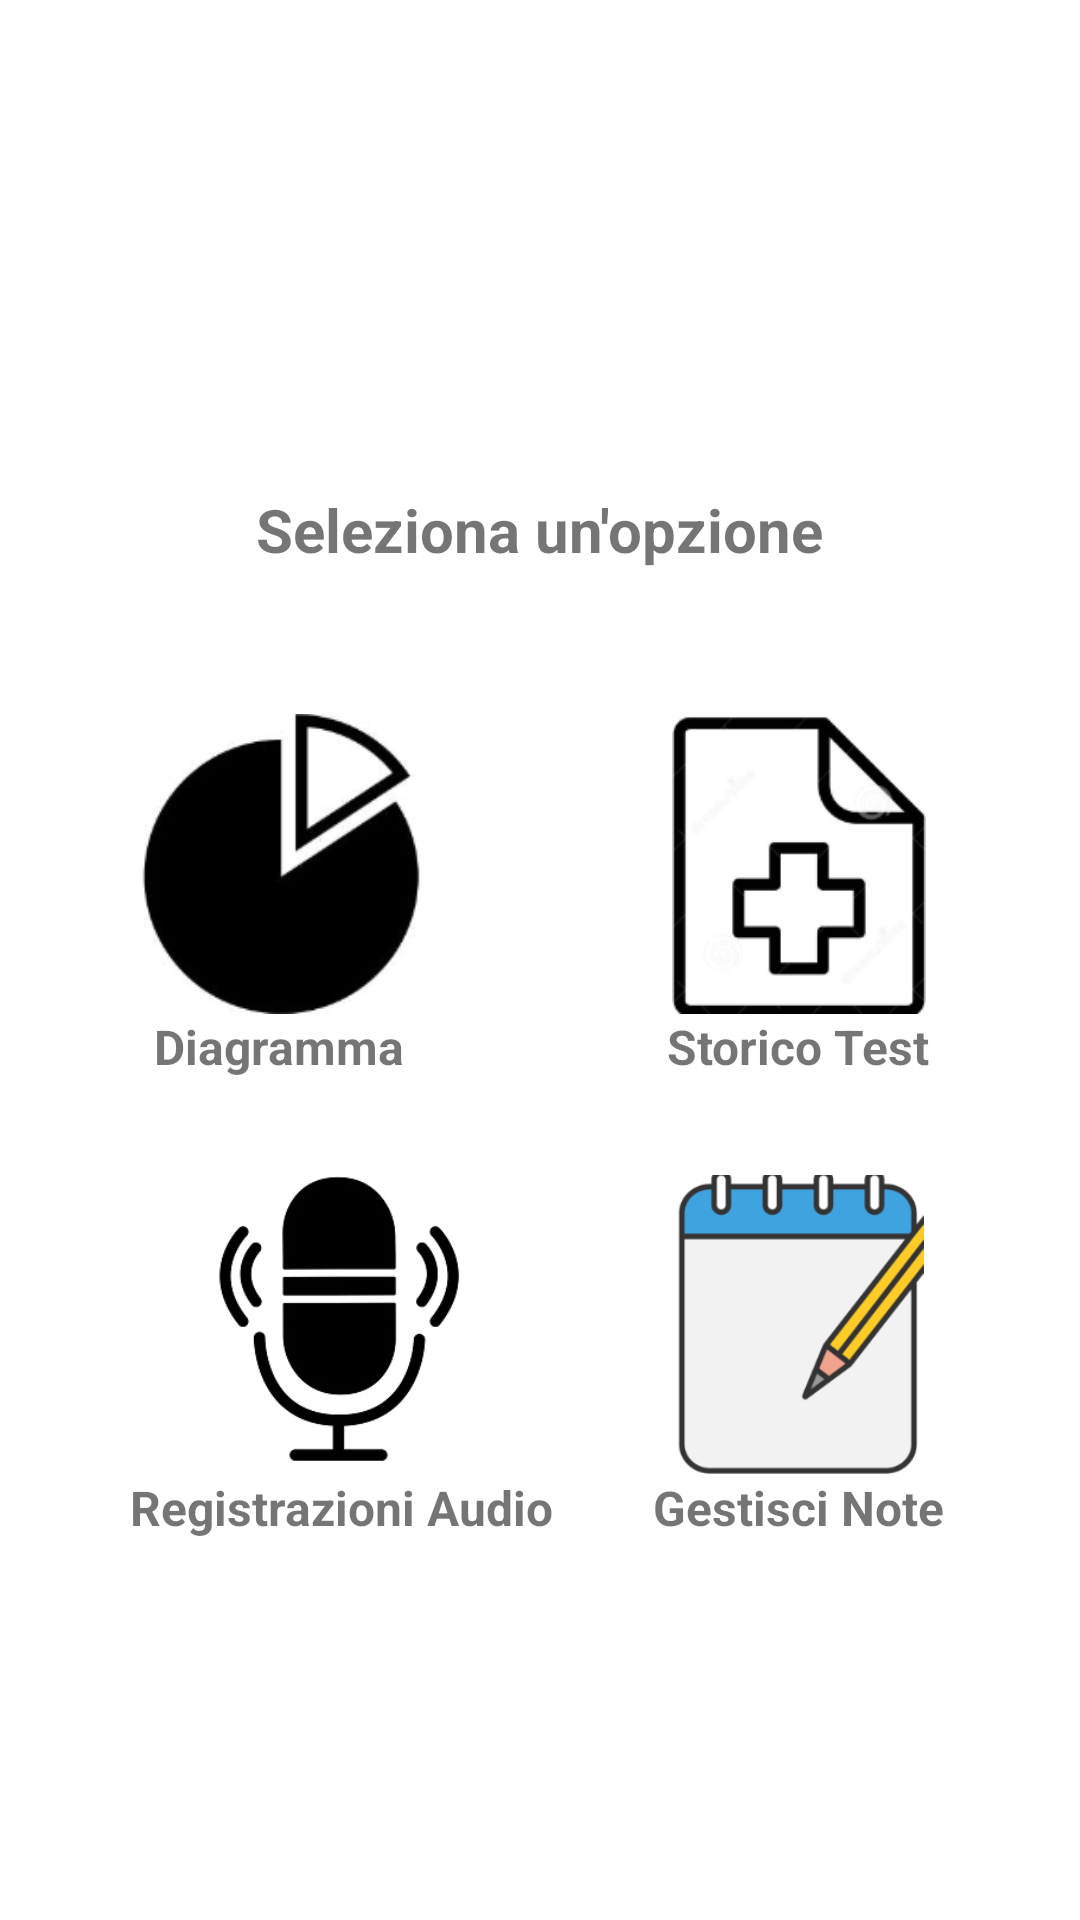

Point at icon controls on the screen. Image size 1080 × 1920, points as (x=x, y=y).
Cartella Medica: (x=799, y=865)
